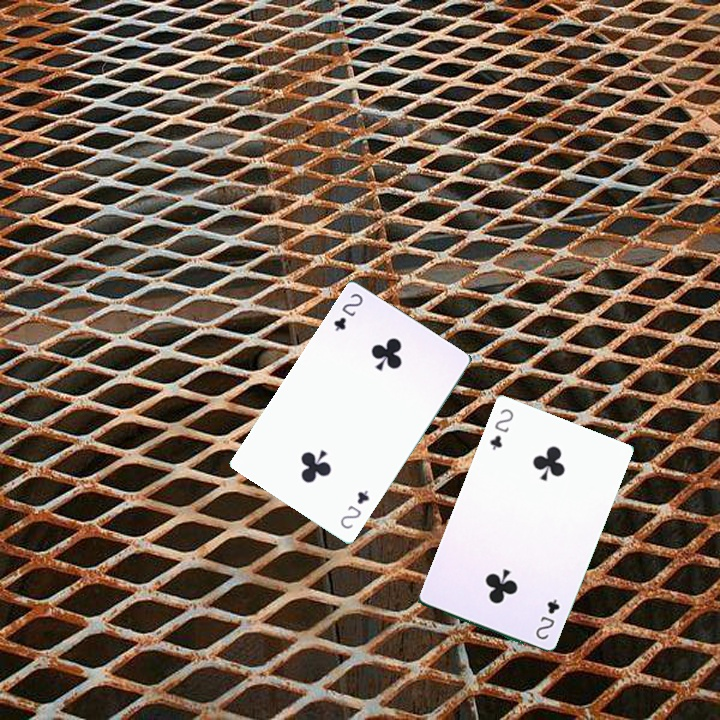2c: (336, 486, 372, 532), (330, 289, 366, 334), (486, 404, 516, 453), (531, 595, 562, 642)
